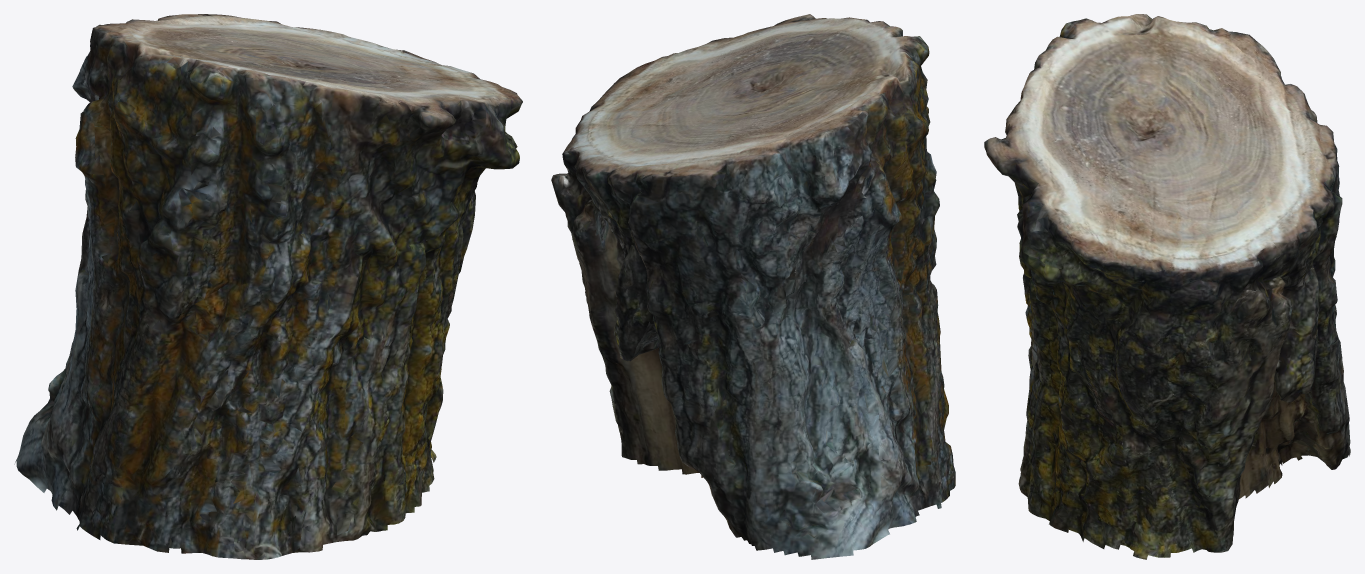
The model's file is cut_log.glb.
3 views of the same model, side by side, from view 1: azimuth 30°, elevation 25°; view 2: azimuth 150°, elevation 25°; view 3: azimuth 270°, elevation 25° (orthographic). The views are drawn at different scales.
Visible parts, largest first — view 1: Cut log - Remeshed; view 2: Cut log - Remeshed; view 3: Cut log - Remeshed.
Boxes of the visible parts, <box> form: Cut log - Remeshed: <box>14,14,522,559</box>; Cut log - Remeshed: <box>551,14,955,559</box>; Cut log - Remeshed: <box>984,14,1350,559</box>.
Size of the model in its own units: 0.4194 by 0.4738 by 0.3696.
Materials: 1 (1 with a texture image).
